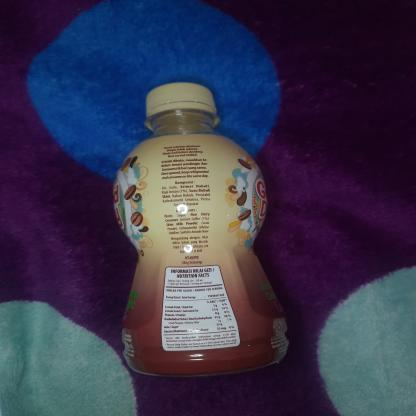bottle: (107, 78, 297, 380)
